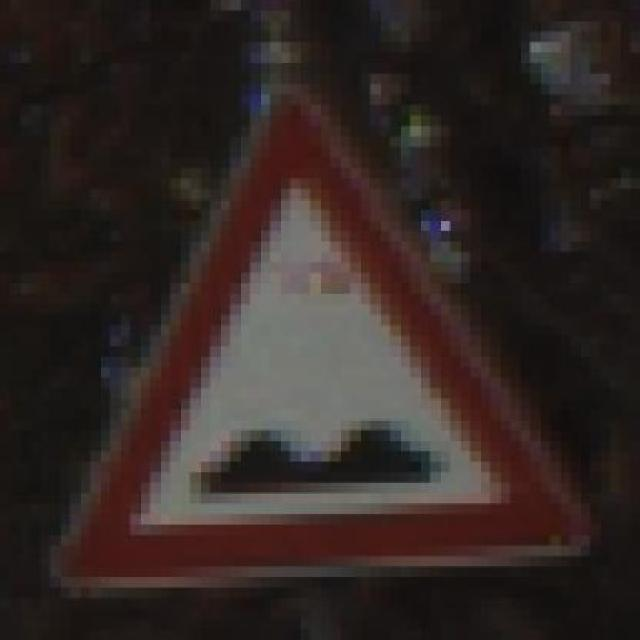Uneven Road: (40, 73, 600, 609)
